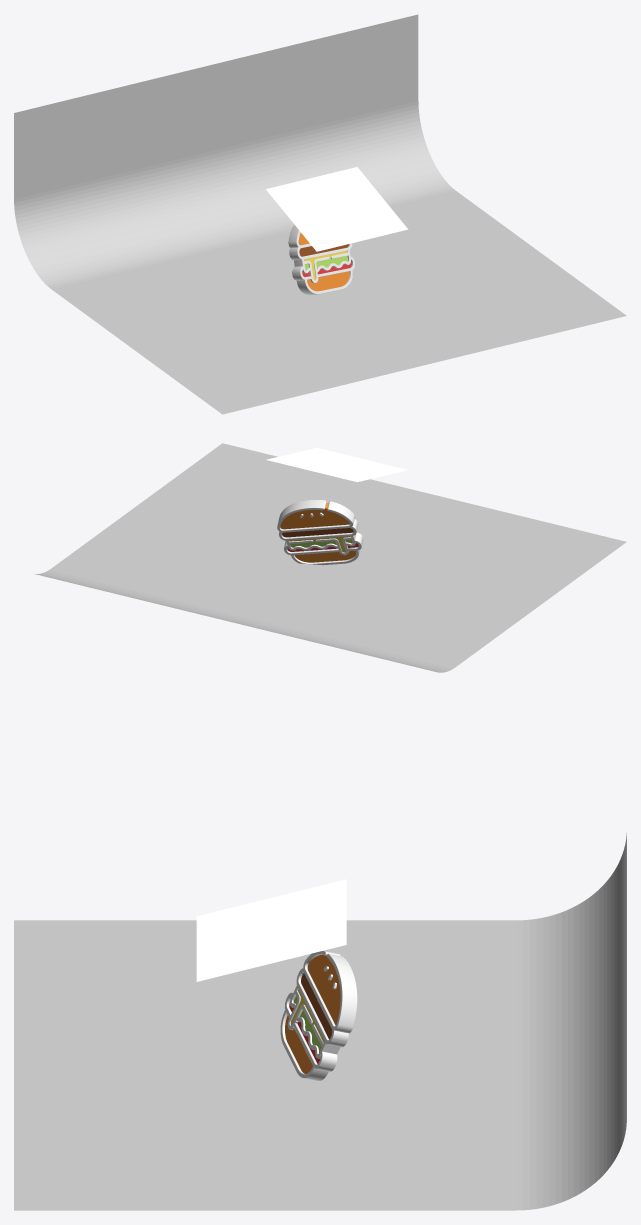
The model's file is hamburger.glb.
3 renders of one model, top to bottom at view 1: azimuth 30°, elevation 25°; view 2: azimuth 150°, elevation 25°; view 3: azimuth 270°, elevation 25°, orthographic. The views are drawn at different scales.
Parts seen in each view (by area): view 1: 平面, 平面.001, Curve.015; view 2: 平面, Curve.015, 平面.001, Curve.004, Curve.006, Curve.001; view 3: 平面, 平面.001, Curve.015, Curve.004.
Part boxes in pixels (x1,y1,x2,y2): 平面: (14, 14, 626, 414); 平面.001: (266, 167, 408, 251); Curve.015: (288, 225, 355, 294); 平面: (35, 443, 626, 672); Curve.015: (277, 500, 363, 565); 平面.001: (266, 447, 407, 482); Curve.004: (280, 503, 350, 529); Curve.006: (294, 550, 355, 562); Curve.001: (282, 528, 353, 537); 平面: (14, 833, 626, 1210); 平面.001: (196, 879, 346, 981); Curve.015: (280, 950, 357, 1080); Curve.004: (307, 955, 340, 1025).
Bounding box in the file's own units: 17.78 × 6.34 × 15.87.
